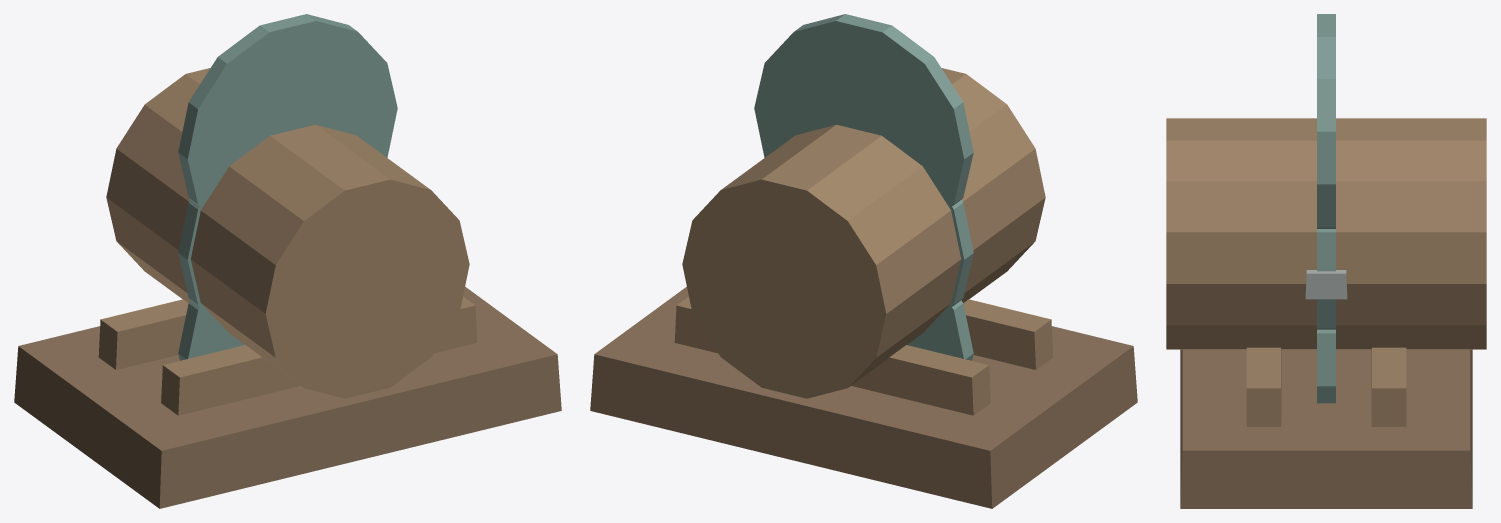
File: station_aging_barrel.glb
3 renders of one model, left to right at view 1: azimuth 30°, elevation 25°; view 2: azimuth 150°, elevation 25°; view 3: azimuth 270°, elevation 25°, orthographic.
Parts seen in each view (by area): view 1: part_3, part_0, part_6, part_2, part_1, part_5, part_4; view 2: part_3, part_0, part_6, part_1, part_2, part_5, part_4; view 3: part_3, part_0, part_6, part_1, part_2, part_4, part_5, part_7.
Part boxes in pixels (x1,y1,x2,y2): part_3: (106, 68, 469, 398); part_0: (14, 286, 561, 508); part_6: (178, 14, 397, 207); part_2: (161, 296, 477, 415); part_1: (98, 299, 188, 369); part_5: (178, 121, 337, 338); part_4: (178, 300, 244, 360); part_3: (682, 68, 1045, 398); part_0: (590, 286, 1137, 508); part_6: (754, 14, 973, 206); part_1: (674, 296, 990, 415); part_2: (963, 299, 1053, 369); part_5: (782, 121, 973, 338); part_4: (907, 300, 973, 360); part_3: (1166, 118, 1486, 349); part_0: (1180, 349, 1472, 508); part_6: (1317, 14, 1335, 228); part_1: (1371, 347, 1406, 426); part_2: (1246, 347, 1281, 426); part_4: (1317, 329, 1335, 403); part_5: (1317, 229, 1335, 329); part_7: (1305, 270, 1347, 299).
Bounding box in the file's own units: 1.34 × 1.32 × 0.92.
